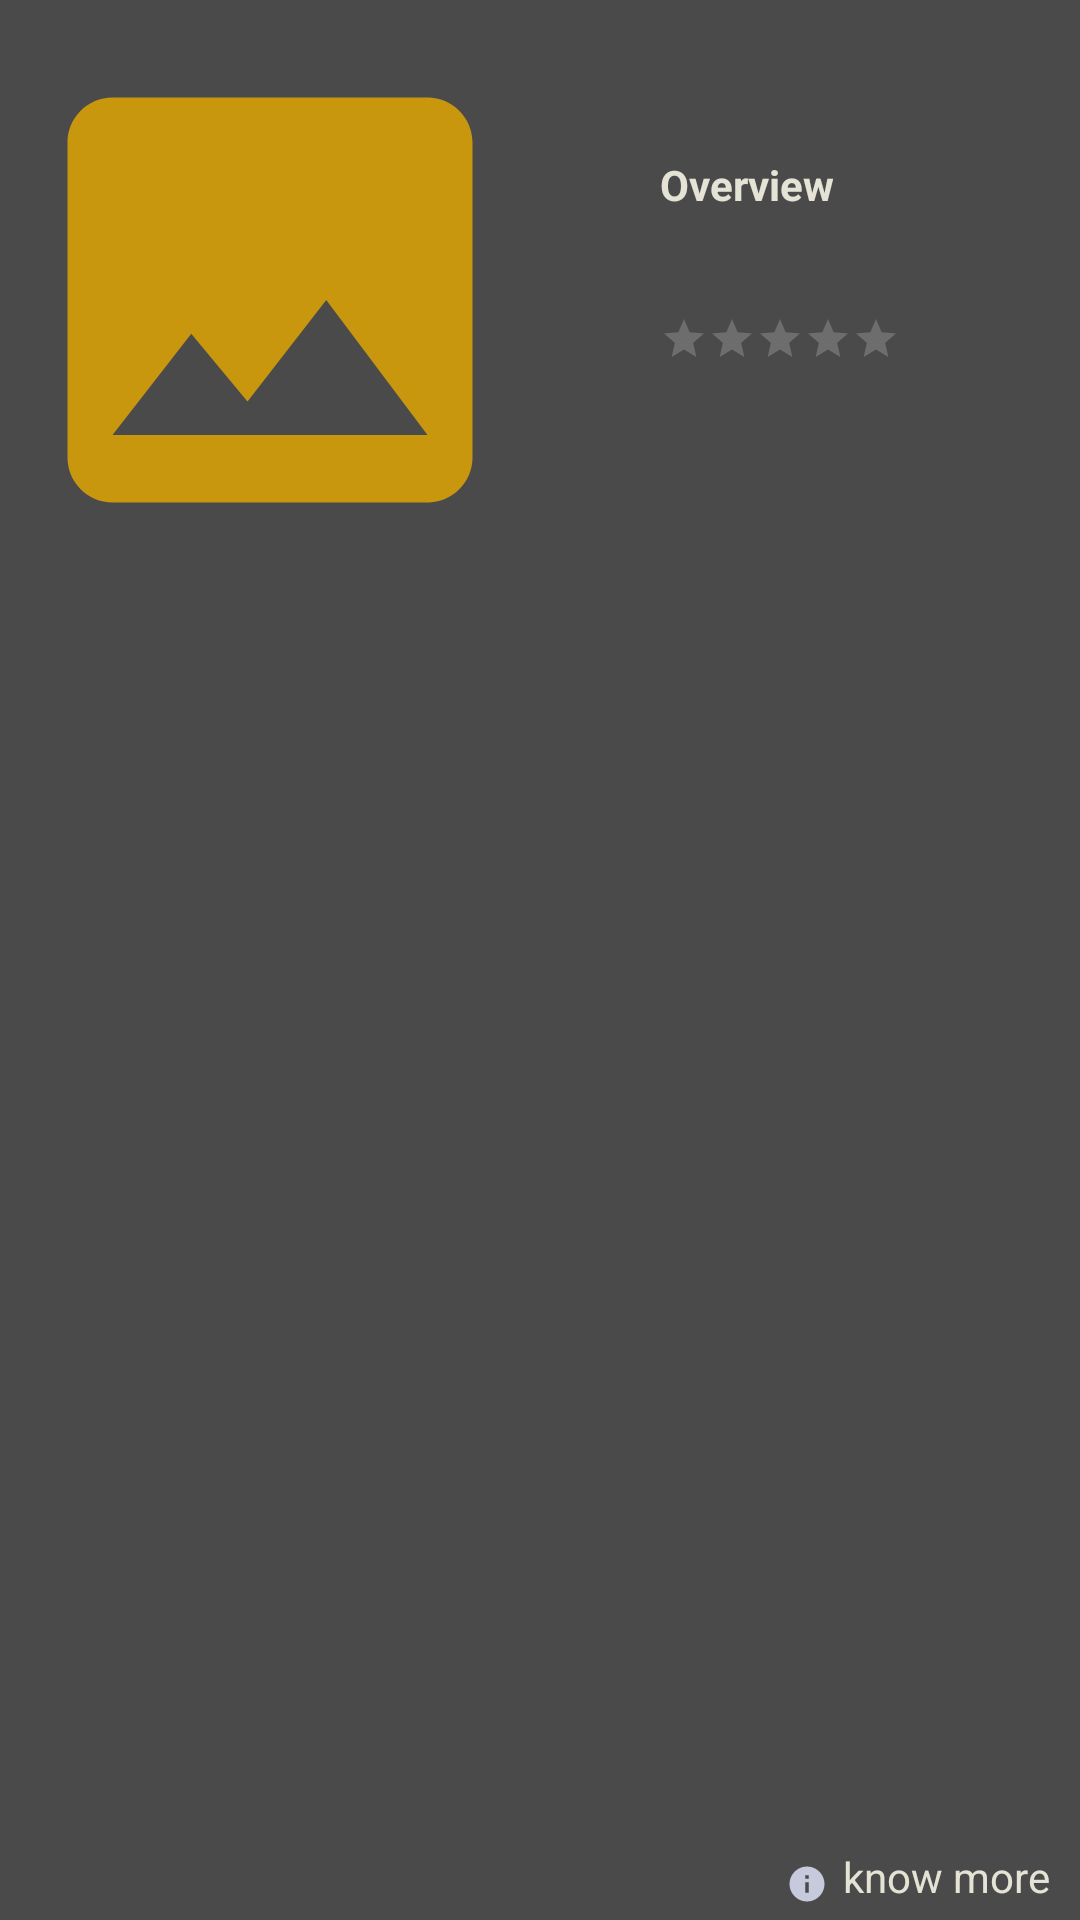

Locate icon controls on the screen. Image size 1080*1920, boxes as [x1, y1, x2, y2].
info: [789, 1866, 825, 1902]
